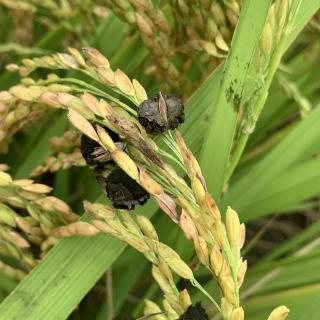Gosong-Palsu: (137, 90, 187, 136), (105, 167, 150, 212), (80, 122, 124, 165)
